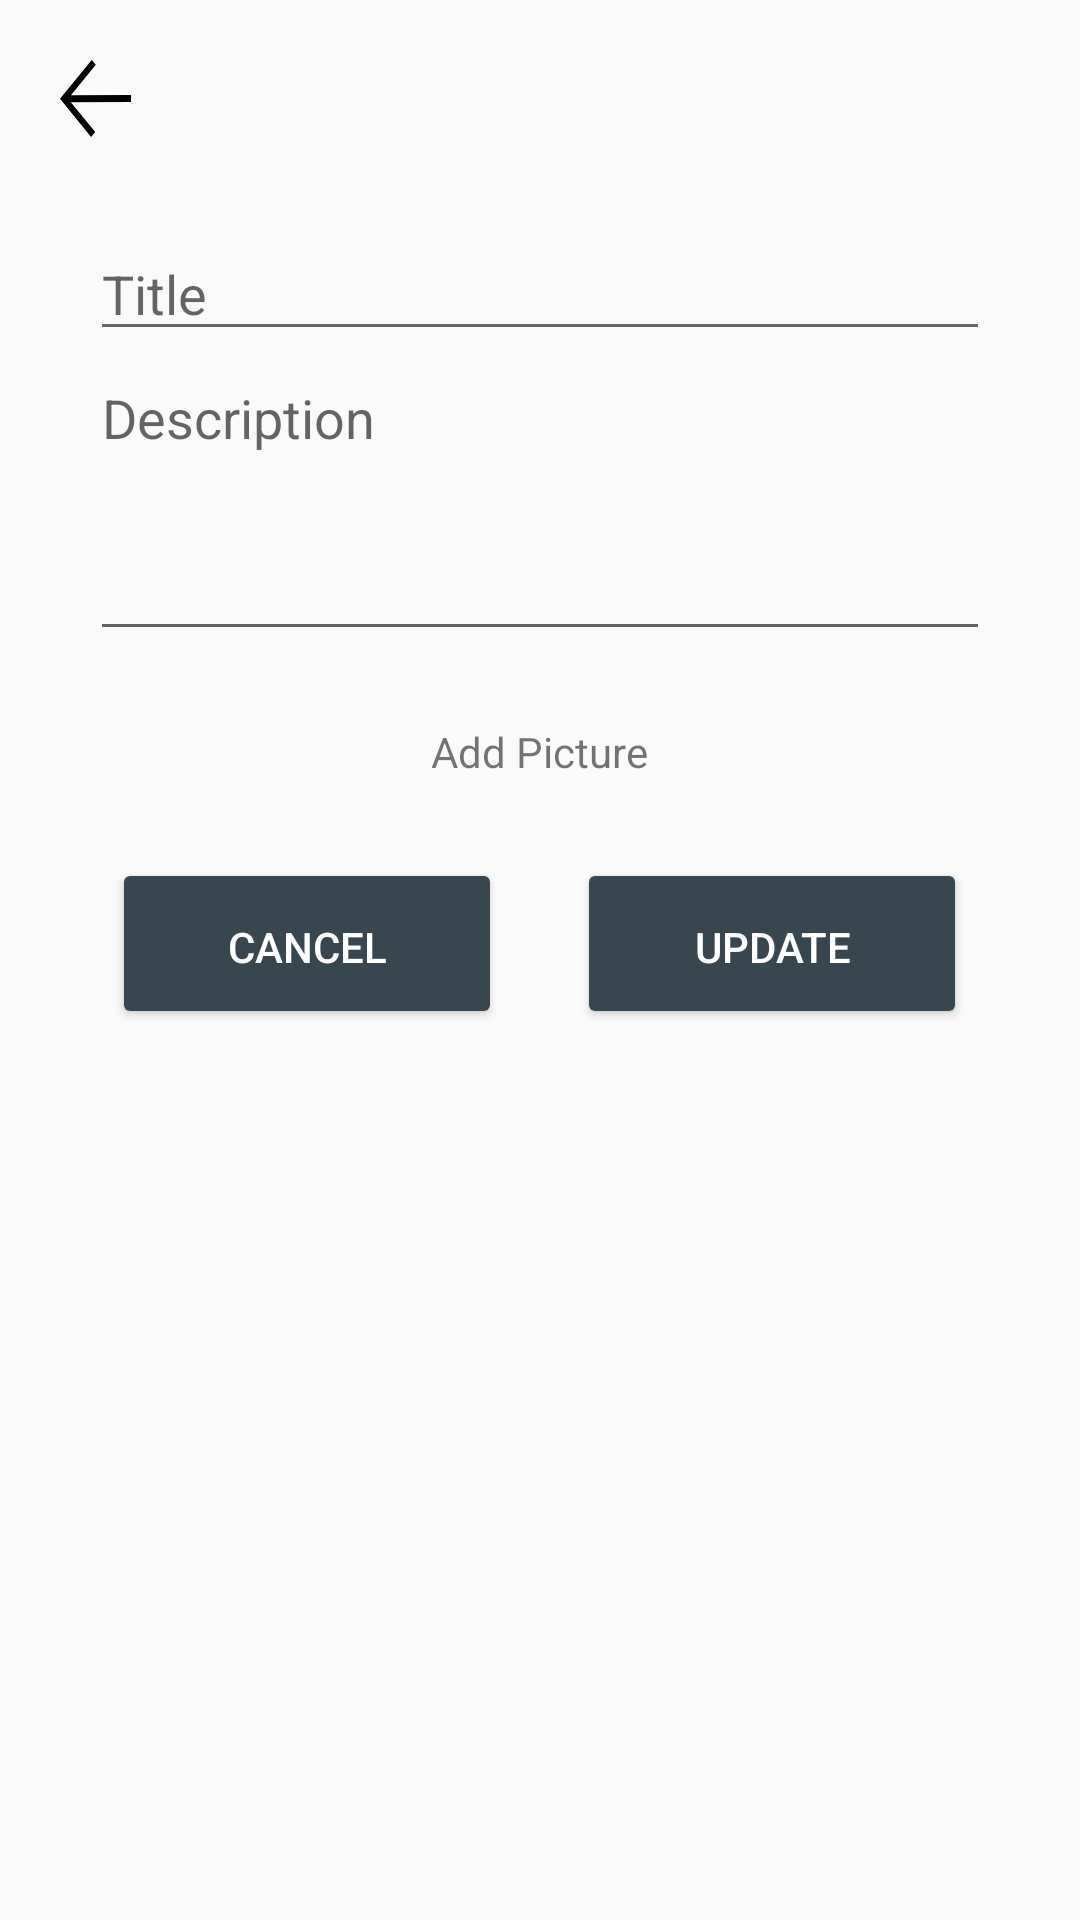

Icons on this 1080*1920 Android screen, each with the point to tap as (x,y):
back: (95,98)
